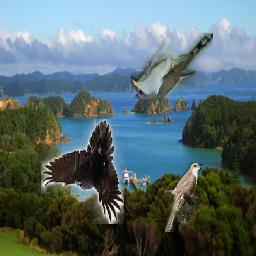Crow: (42, 120, 125, 225)
Cuckoo: (131, 33, 213, 99), (166, 162, 203, 232)
